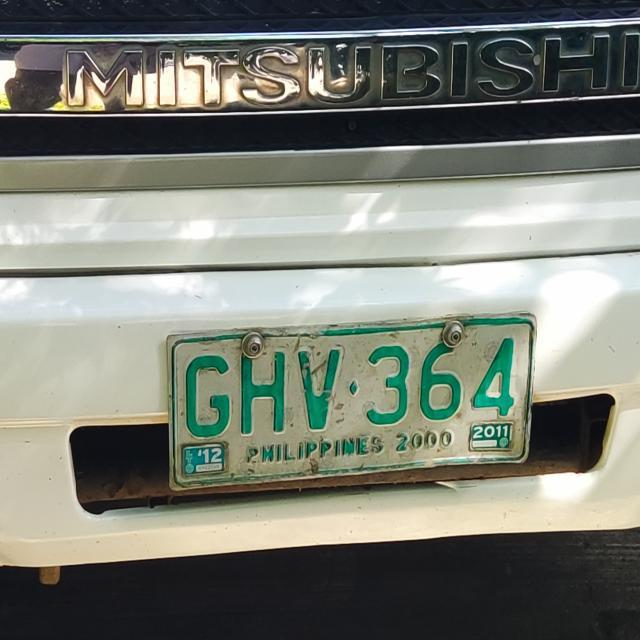LicensePlate: (157, 306, 537, 482)
